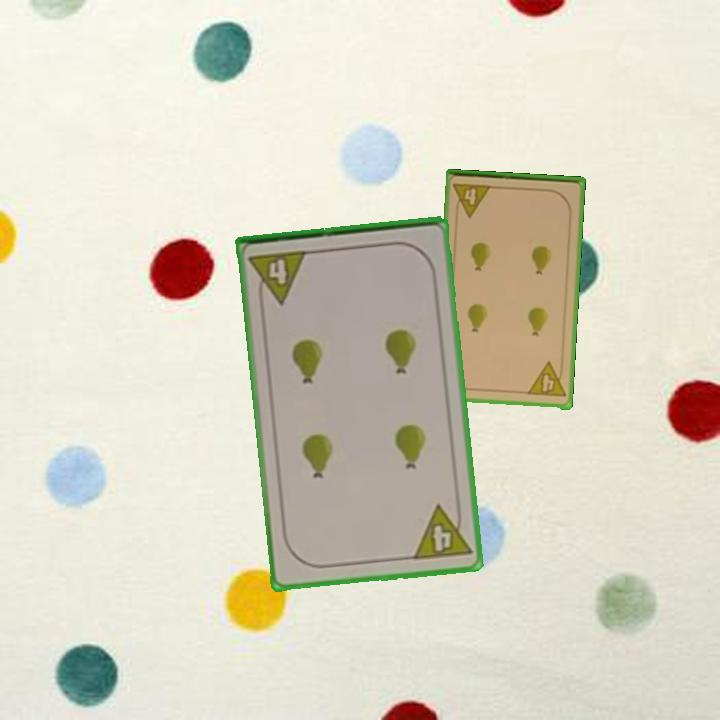4p: (409, 500, 474, 563), (246, 246, 311, 308), (524, 359, 568, 400), (450, 180, 494, 220)
